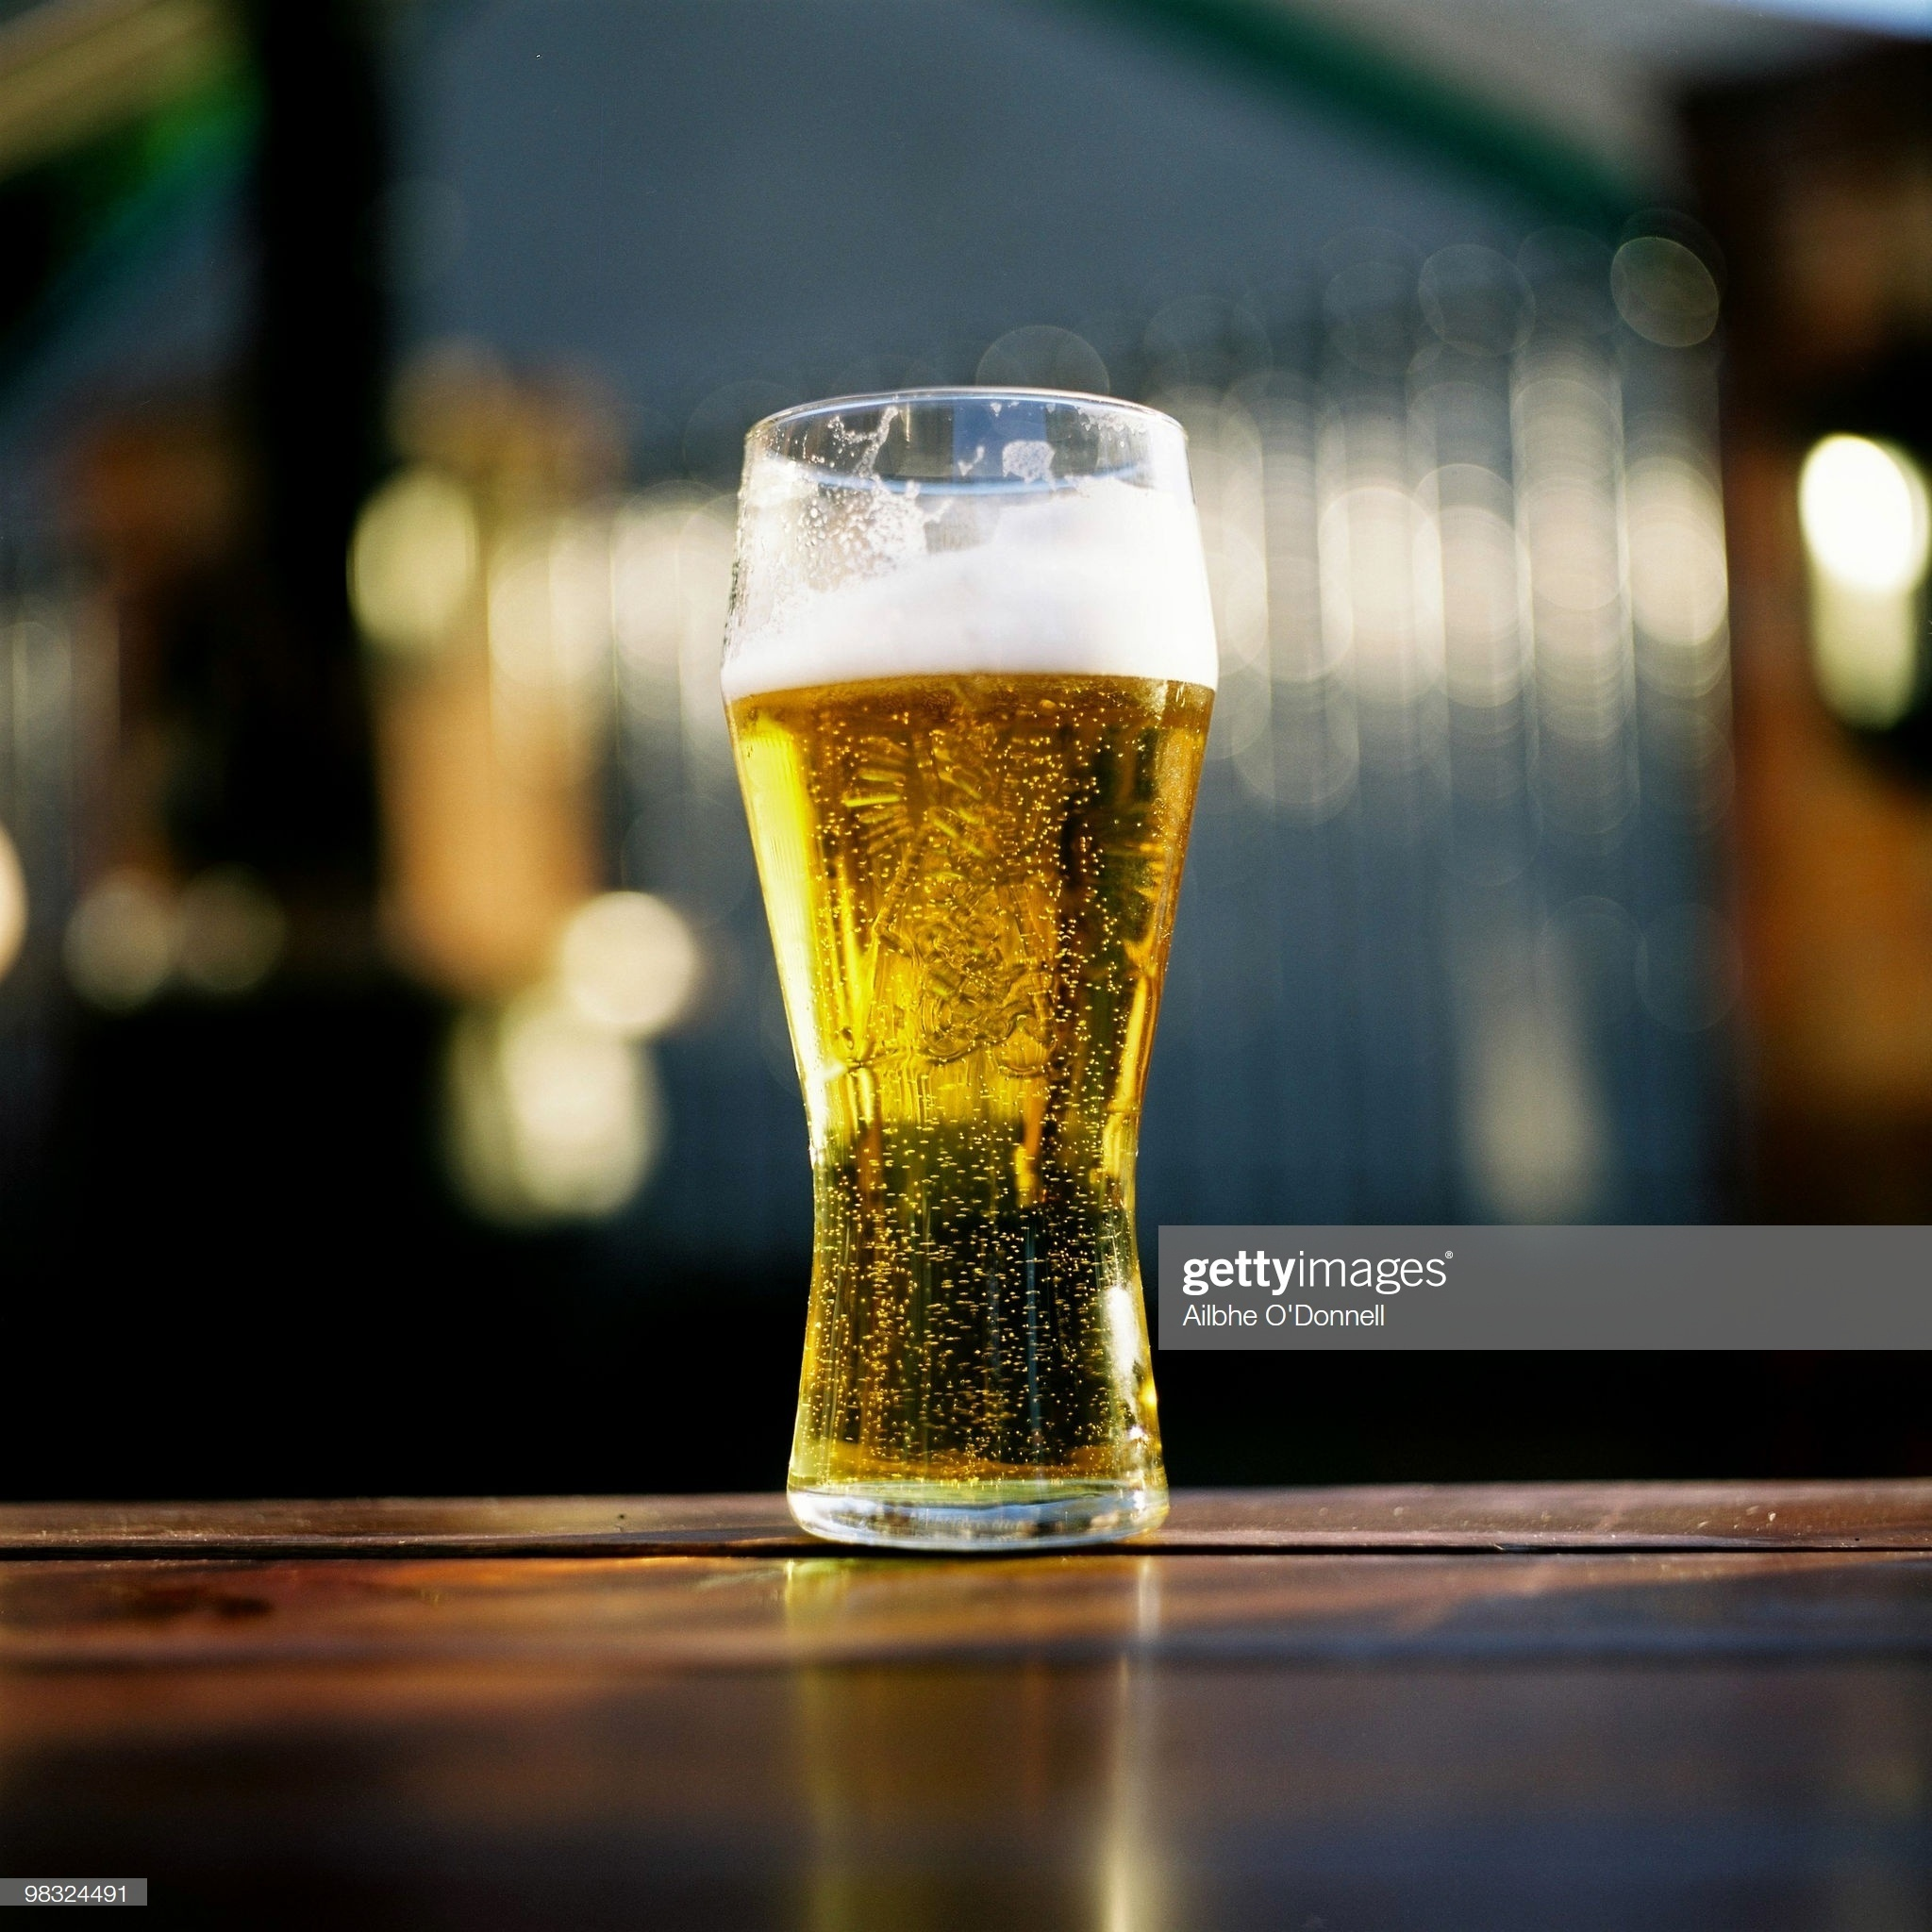whiskey: (731, 366, 1203, 1541)
